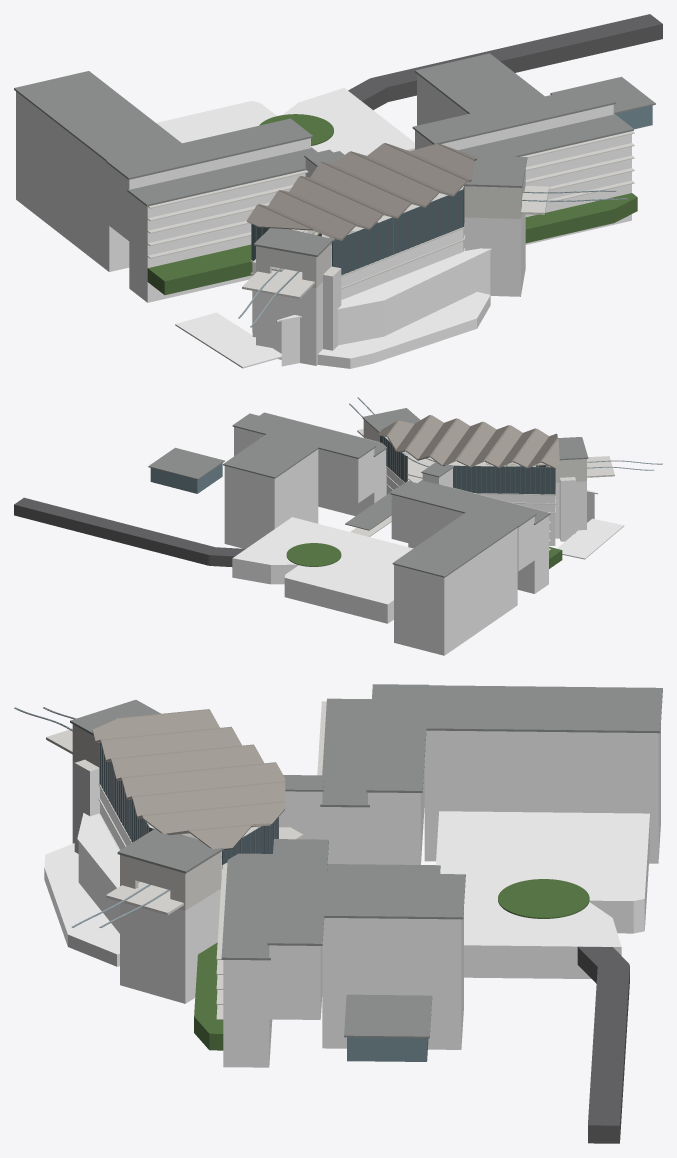
3 views of the same model, one above another, from view 1: azimuth 30°, elevation 25°; view 2: azimuth 150°, elevation 25°; view 3: azimuth 270°, elevation 25° (orthographic). The views are drawn at different scales.
Parts seen in each view (by area): view 1: t3_6, t3_72, t3_0, t3_74, t3_26, t3_5, t3_7, b.122, t3_3, t3_8, t3_11, t3_14 (+34 smaller); view 2: t3_72, t3_5, t3_13, t3_74, t3_7, t3_6, t3_71, t3_1, t3_9, b.080, t3_14, t3_3 (+32 smaller); view 3: t3_72, t3_5, t3_13, t3_6, t3_53, t3_74, t3_14, t3_3, t3_11, t3_71, t3_2, t3_10 (+34 smaller).
Boxes of the visible parts, left/top/right/bottom form: t3_6: left=14, top=71, right=181, bottom=161; t3_72: left=156, top=88, right=414, bottom=155; t3_0: left=129, top=173, right=305, bottom=267; t3_74: left=348, top=14, right=662, bottom=110; t3_26: left=281, top=251, right=490, bottom=366; t3_5: left=16, top=91, right=108, bottom=223; t3_7: left=16, top=153, right=129, bottom=271; b.122: left=332, top=189, right=463, bottom=275; t3_3: left=106, top=118, right=312, bottom=179; t3_8: left=525, top=134, right=631, bottom=216; t3_11: left=412, top=85, right=615, bottom=144; t3_14: left=415, top=53, right=544, bottom=114; t3_72: left=232, top=517, right=413, bottom=604; t3_5: left=394, top=528, right=517, bottom=621; t3_13: left=224, top=449, right=318, bottom=530; t3_74: left=14, top=497, right=245, bottom=566; t3_7: left=394, top=572, right=517, bottom=655; t3_6: left=392, top=512, right=517, bottom=577; t3_71: left=232, top=558, right=393, bottom=623; t3_1: left=391, top=495, right=534, bottom=571; t3_9: left=234, top=427, right=374, bottom=503; b.080: left=452, top=465, right=554, bottom=494; t3_14: left=223, top=434, right=319, bottom=478; t3_3: left=390, top=481, right=536, bottom=527; t3_72: left=436, top=811, right=649, bottom=947; t3_5: left=424, top=725, right=660, bottom=807; t3_13: left=322, top=909, right=463, bottom=1008; t3_6: left=423, top=685, right=662, bottom=733; t3_53: left=120, top=889, right=220, bottom=1003; t3_74: left=577, top=946, right=629, bottom=1143; t3_14: left=320, top=872, right=465, bottom=919; t3_3: left=366, top=684, right=428, bottom=792; t3_11: left=267, top=839, right=328, bottom=945; t3_71: left=464, top=818, right=649, bottom=978; t3_2: left=320, top=698, right=371, bottom=807; t3_10: left=221, top=853, right=272, bottom=960.
Bounding box in the file's own units: 197 × 34.6 × 141.
Materials: 21 (2 with a texture image).
